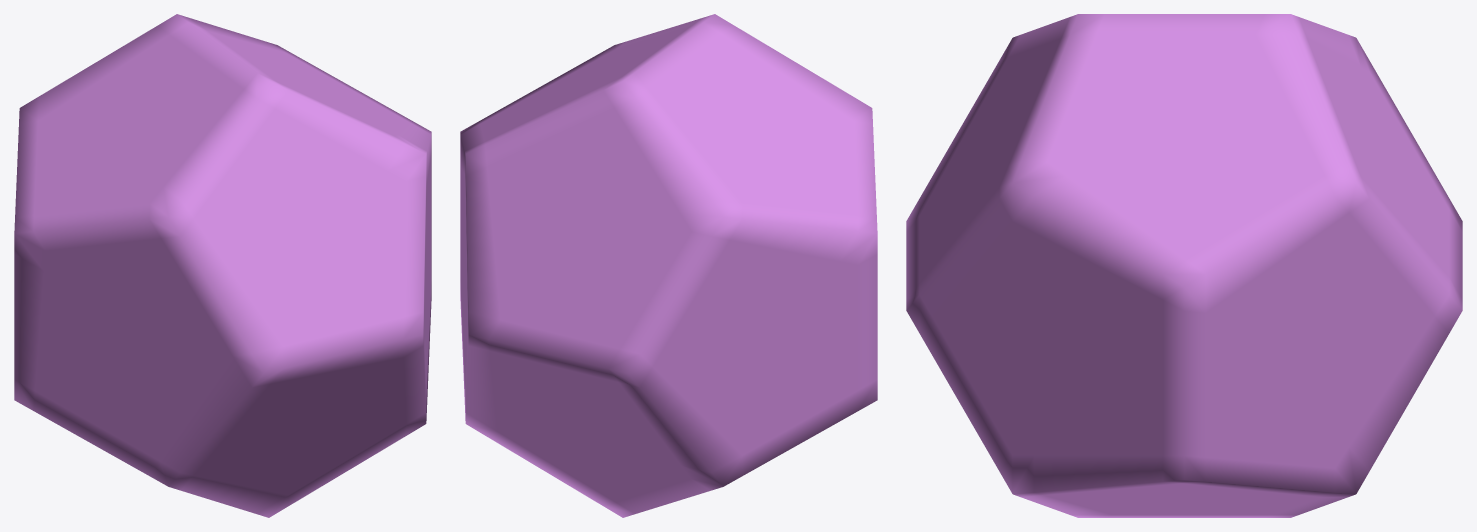
3 views of the same model, side by side, from view 1: azimuth 30°, elevation 25°; view 2: azimuth 150°, elevation 25°; view 3: azimuth 270°, elevation 25° (orthographic). The views are drawn at different scales.
Visible parts, largest first — view 1: Solid; view 2: Solid; view 3: Solid.
Part boxes in pixels (left/top/right/bottom): Solid: left=14, top=14, right=431, bottom=517; Solid: left=460, top=14, right=877, bottom=517; Solid: left=906, top=14, right=1462, bottom=517.
Bounding box in the file's own units: 187 × 187 × 187.
